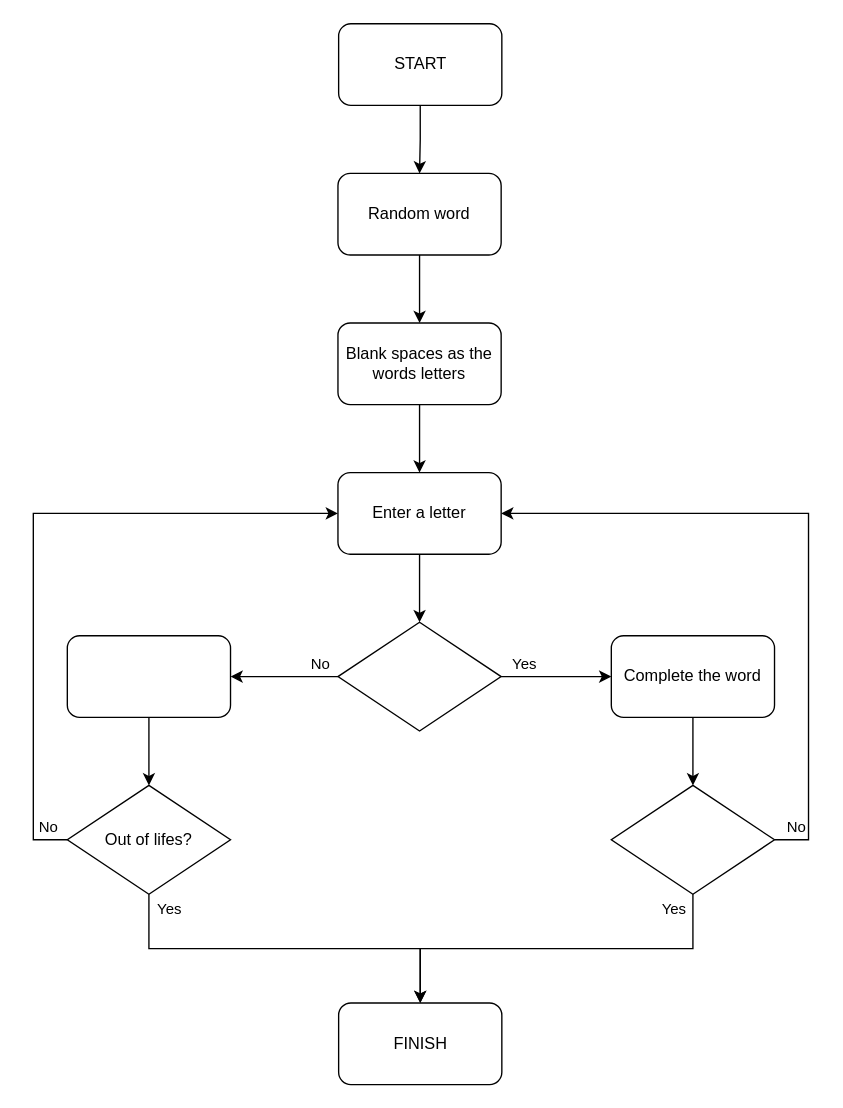
The diagram is 843 pixels wide and 1108 high, and some of its shapes have lost their labels. Each missing label, with the centre of its shape:
"Is the letter in the word?" goes at point (419, 676).
"Is the word completed?" goes at point (692, 839).
"Lose a life" goes at point (148, 675).
